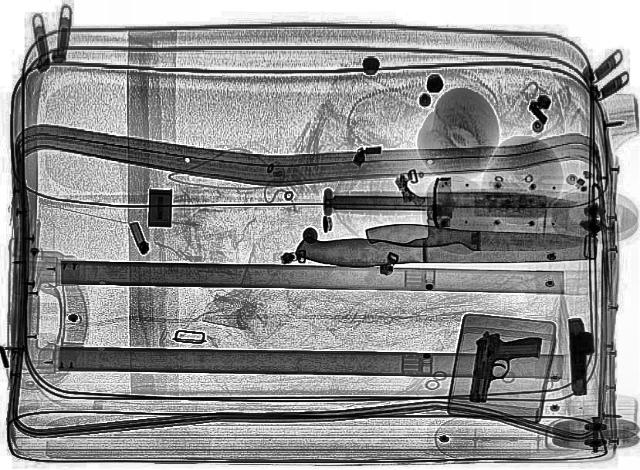Gun: (463, 330, 541, 408), (562, 316, 596, 396)
Knife: (294, 189, 598, 267), (324, 191, 582, 217), (364, 224, 588, 250)
